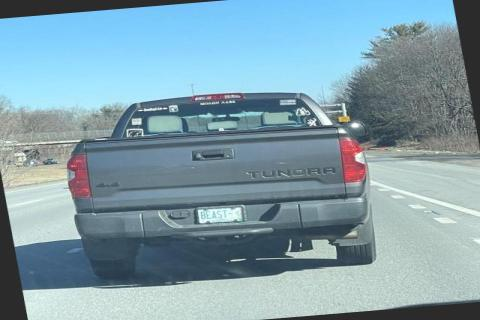LicensePlate: (192, 203, 246, 224)
